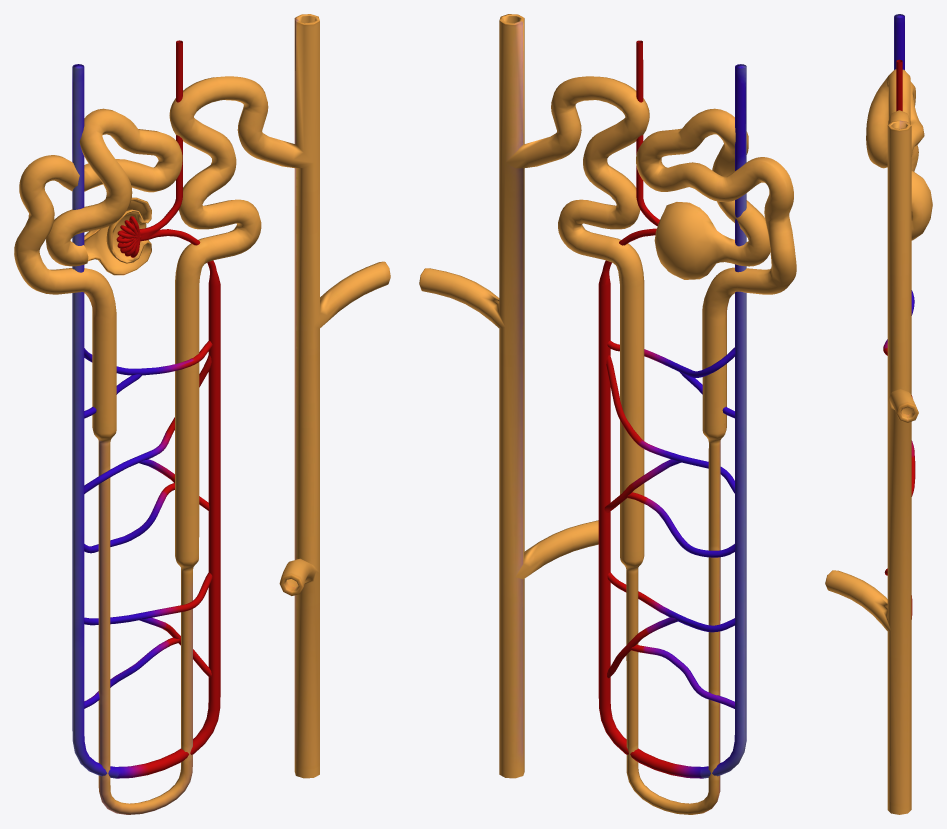
Rendered from PRP_Nephron.glb.
3 views of the same model, side by side, from view 1: azimuth 30°, elevation 25°; view 2: azimuth 150°, elevation 25°; view 3: azimuth 270°, elevation 25° (orthographic). The views are drawn at different scales.
Parts seen in each view (by area): view 1: sweep5_lambert1_0; view 2: sweep5_lambert1_0; view 3: sweep5_lambert1_0.
Boxes of the visible parts, box(x1,y1,x2,y2) form: sweep5_lambert1_0: box(14, 14, 390, 814); sweep5_lambert1_0: box(419, 14, 796, 814); sweep5_lambert1_0: box(825, 14, 932, 814).
Size of the model in its own units: 0.1036 by 0.2041 by 0.0288.
1 material, 1 textured.
